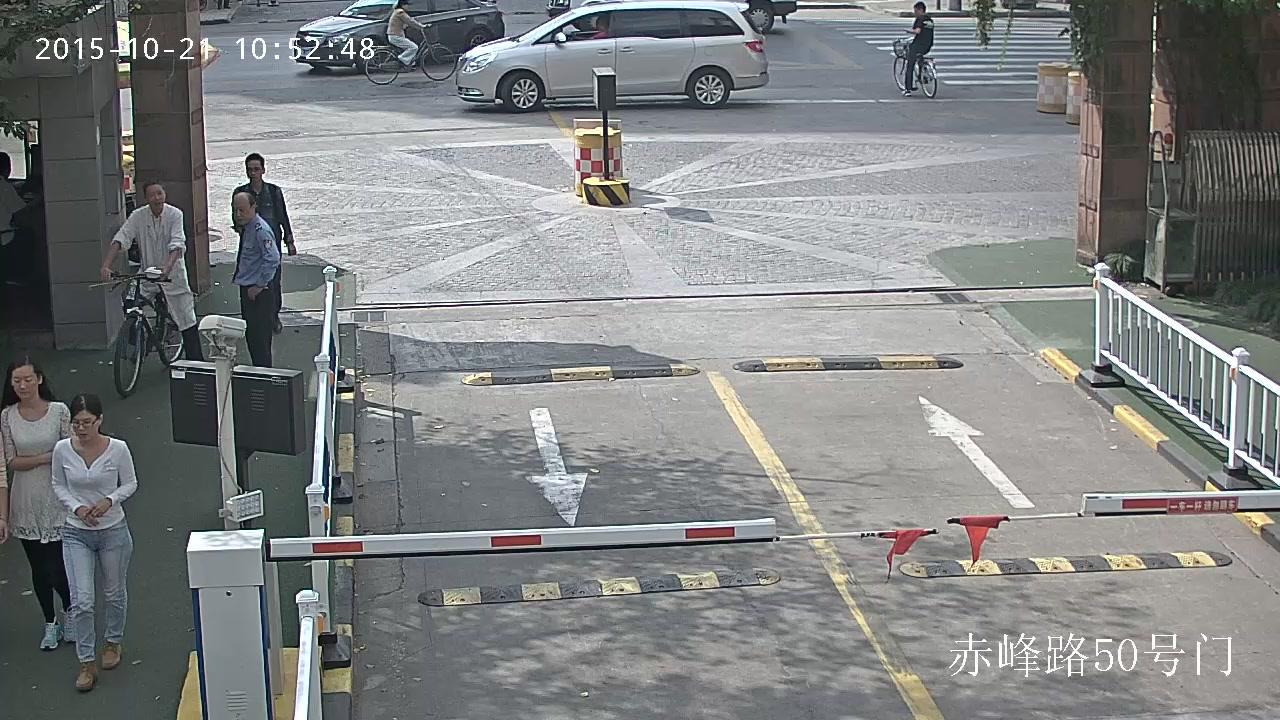face: (12, 365, 37, 399), (73, 411, 97, 438), (231, 199, 251, 224), (146, 185, 165, 208), (246, 160, 261, 185), (595, 17, 602, 29), (914, 6, 920, 16), (404, 3, 407, 10)
